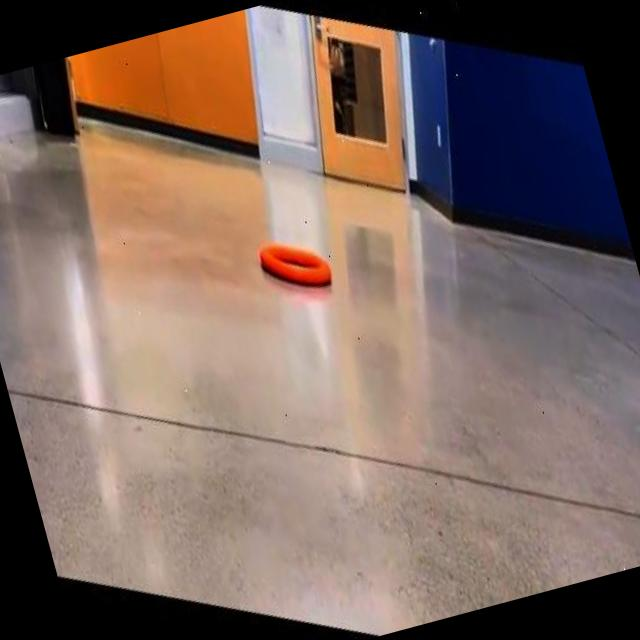note: (258, 244, 329, 284)
